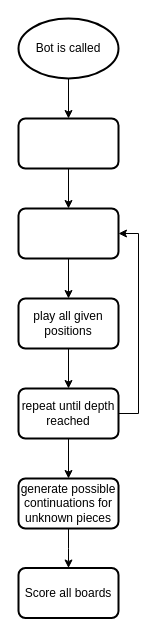
Image size: 164x636. Some labels were removed from this diagram. Each missing label, with the box of its shape:
Convert board to bitboard format: (17, 117, 119, 169)
generate legal positions for board: (17, 207, 119, 259)
